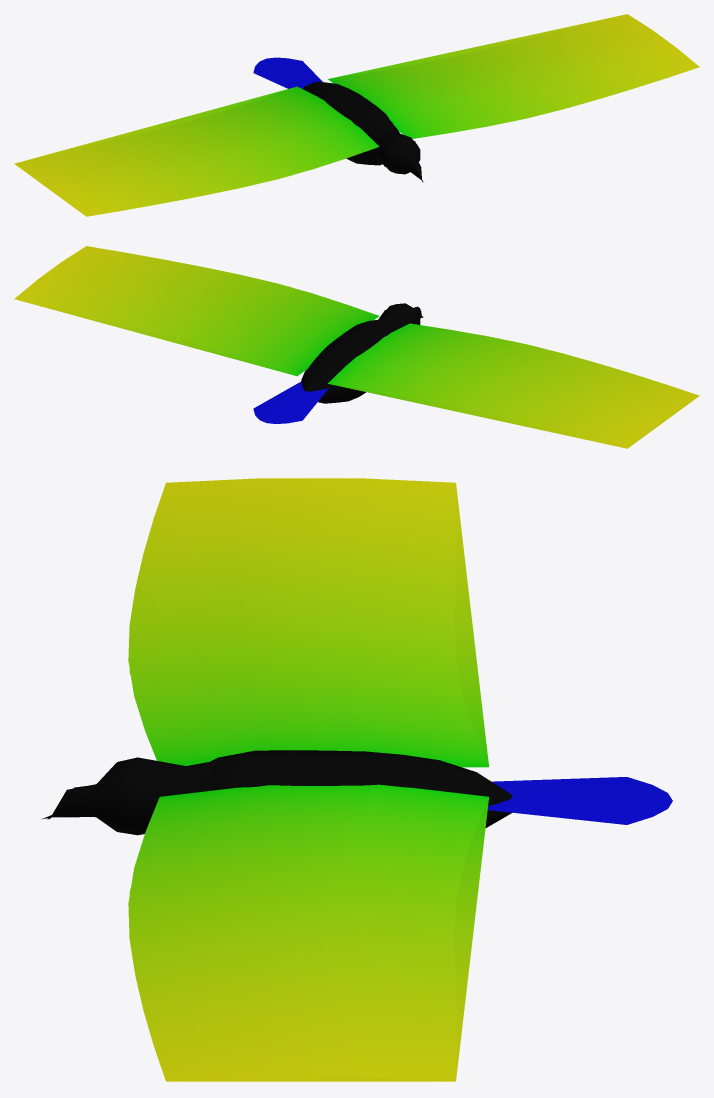
Rendered from raptor.glb.
3 renders of one model, top to bottom at view 1: azimuth 30°, elevation 25°; view 2: azimuth 150°, elevation 25°; view 3: azimuth 270°, elevation 25°, orthographic. The views are drawn at different scales.
Visible parts, largest first — view 1: fly0, fly2, fly1; view 2: fly0, fly2, fly1; view 3: fly0, fly2, fly1.
Part boxes in pixels (box(x1,y1,x2,y2)): fly0: box(14, 14, 699, 216); fly2: box(21, 15, 619, 209); fly1: box(16, 42, 514, 215); fly0: box(14, 246, 699, 448); fly2: box(19, 300, 693, 447); fly1: box(122, 286, 695, 447); fly0: box(49, 478, 672, 1081); fly2: box(42, 484, 523, 1081); fly1: box(47, 577, 524, 1081).
Size of the model in its own units: 1.9 by 0.1632 by 0.8477.
